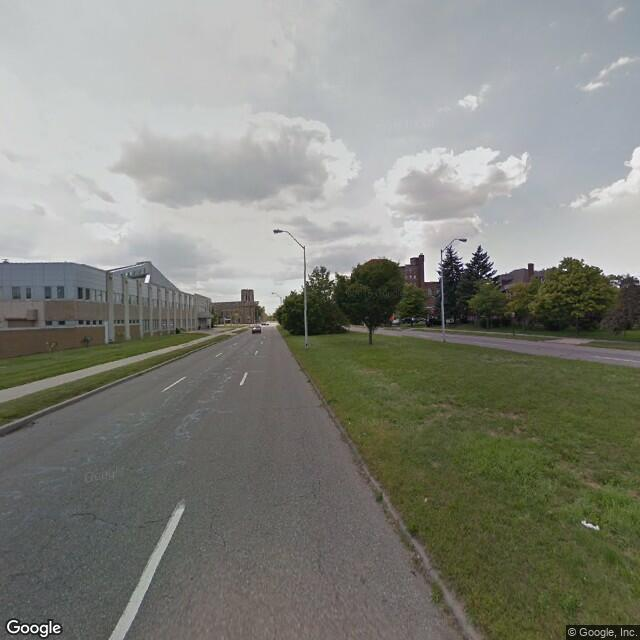litter: (581, 519, 604, 531), (425, 494, 427, 501)
